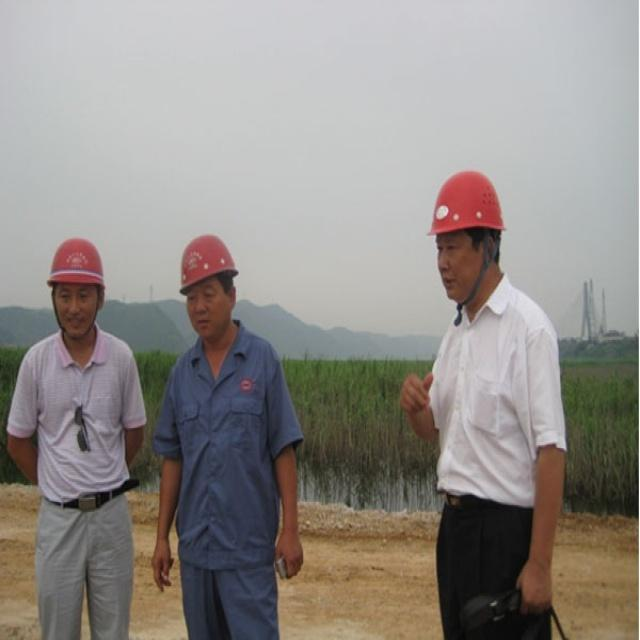helmet: (427, 224, 507, 404), (47, 311, 109, 457), (178, 306, 237, 458)
